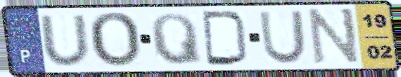D: (200, 9, 252, 67)
N: (308, 7, 361, 67)
O: (87, 11, 143, 70)
Q: (148, 12, 205, 67)
U: (37, 13, 94, 68), (257, 9, 309, 66)
